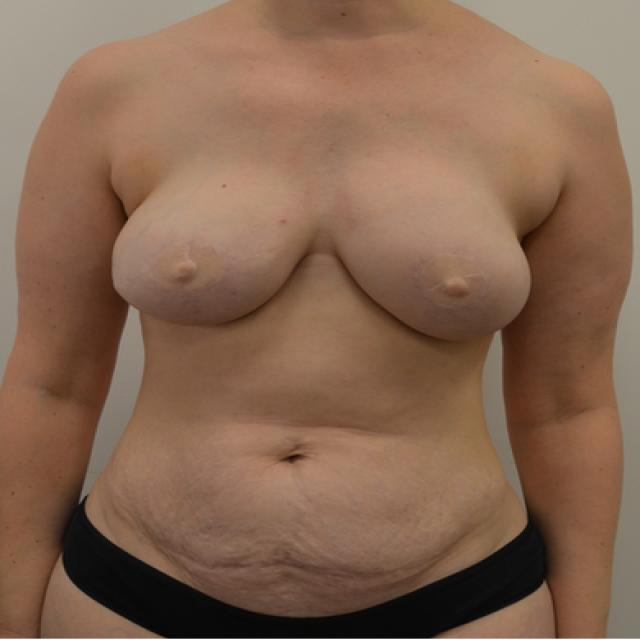Seno ileso: (325, 154, 542, 355), (101, 154, 318, 338)
